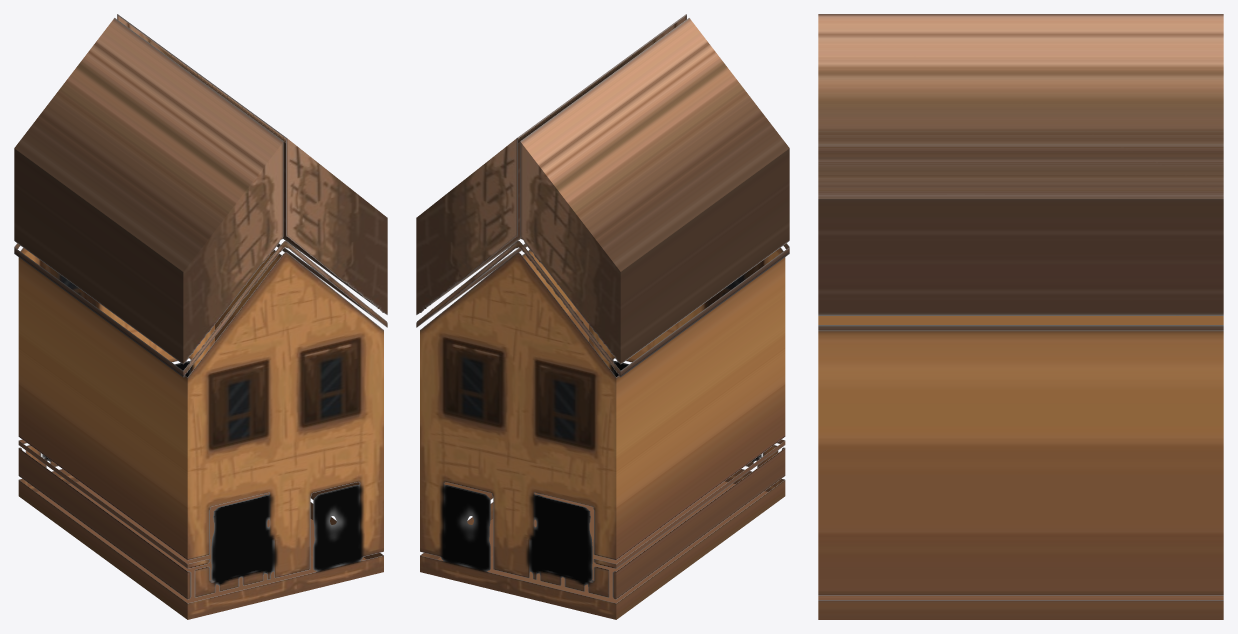
The model's file is house5.fbx.
3 views of the same model, side by side, from view 1: azimuth 30°, elevation 25°; view 2: azimuth 150°, elevation 25°; view 3: azimuth 270°, elevation 25° (orthographic). The views are drawn at different scales.
Parts seen in each view (by area): view 1: Plane; view 2: Plane; view 3: Plane.
Boxes of the visible parts, <box> form: Plane: <box>14,14,387,619</box>; Plane: <box>416,14,789,619</box>; Plane: <box>818,14,1223,619</box>.
Size of the model in its own units: 349 by 748 by 500.
